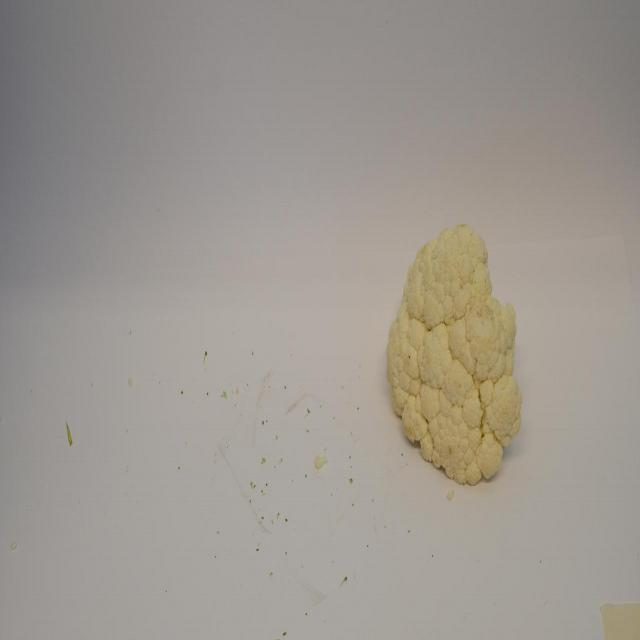cauliflower: (384, 222, 524, 486)
